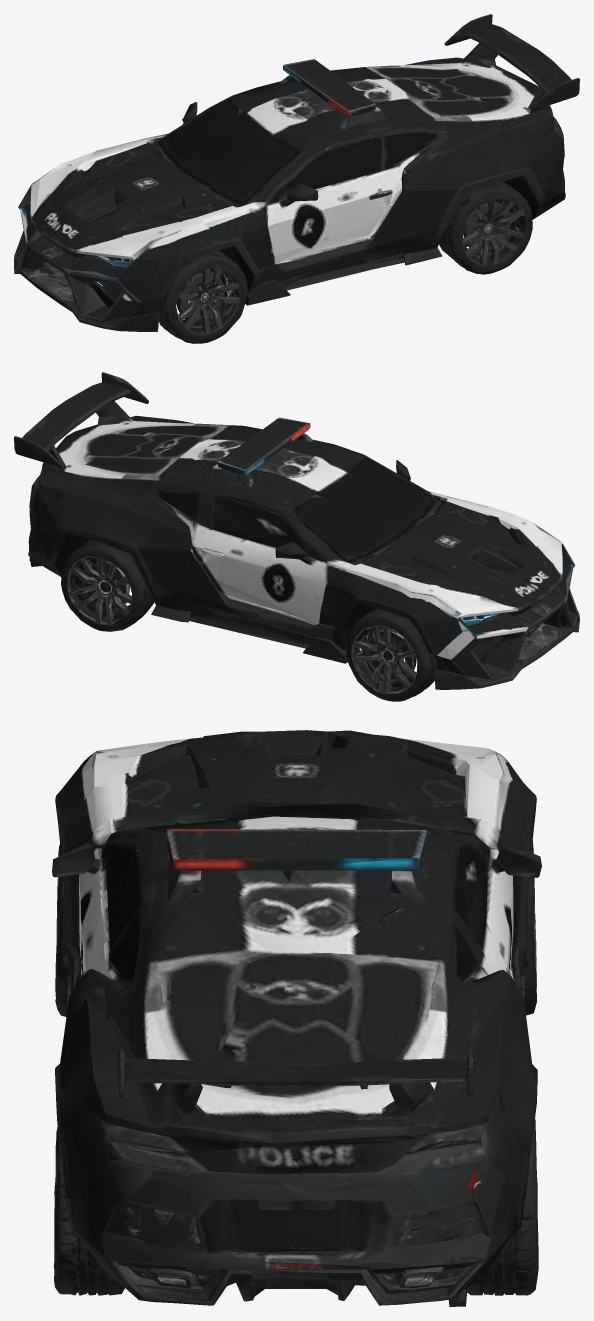
Rendered from mx_car_police.glb.
3 renders of one model, top to bottom at view 1: azimuth 30°, elevation 25°; view 2: azimuth 150°, elevation 25°; view 3: azimuth 270°, elevation 25°, orthographic. The views are drawn at different scales.
Size of the model in its own units: 1.9 by 0.6315 by 0.8151.
1 material, 1 textured.
